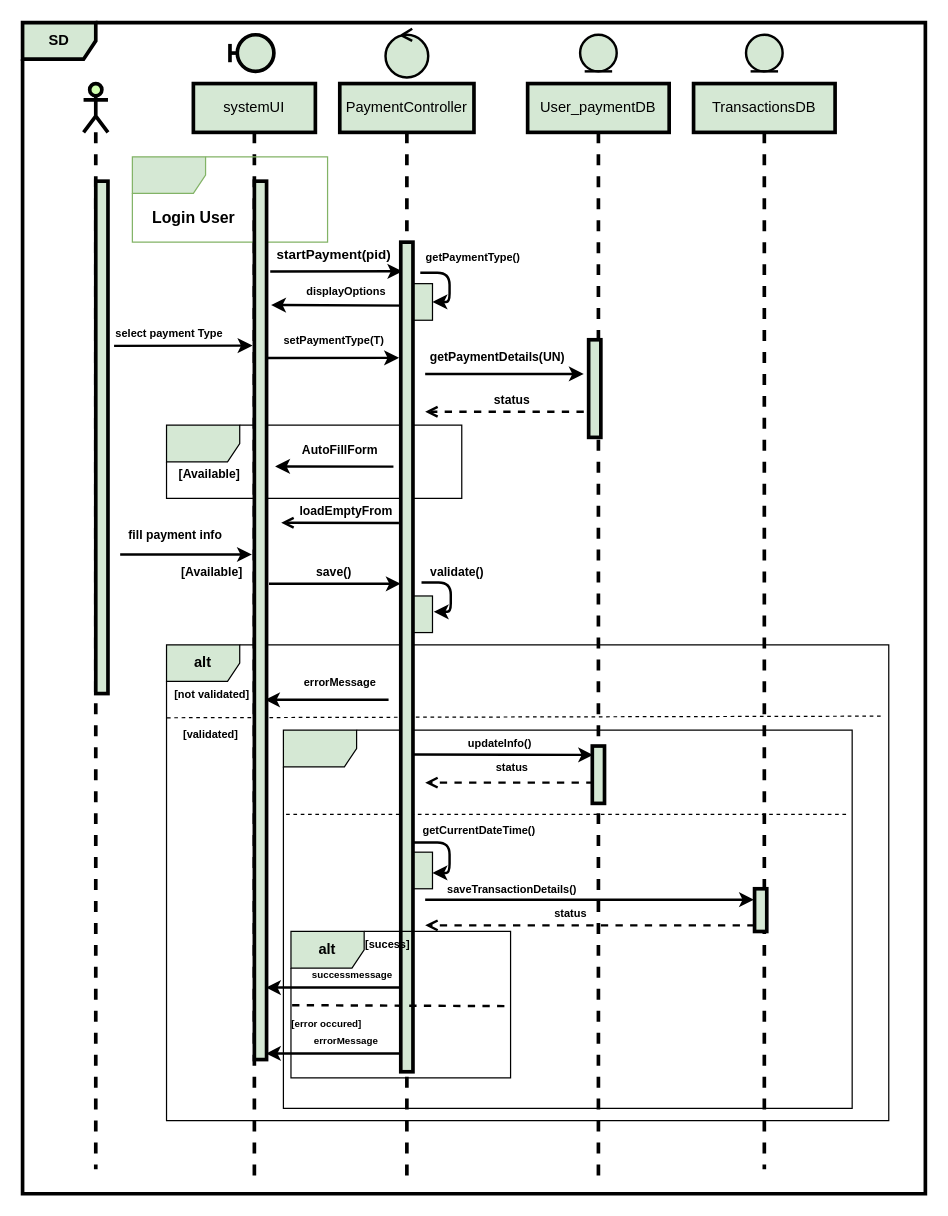
This 948x1216 diagram has some shape labels left out. Here are the shapes that lost their labels. From the top down, the box of each, then its label:
(131, 156, 328, 242): ref
(165, 424, 462, 498): opt
(282, 729, 852, 1108): par
